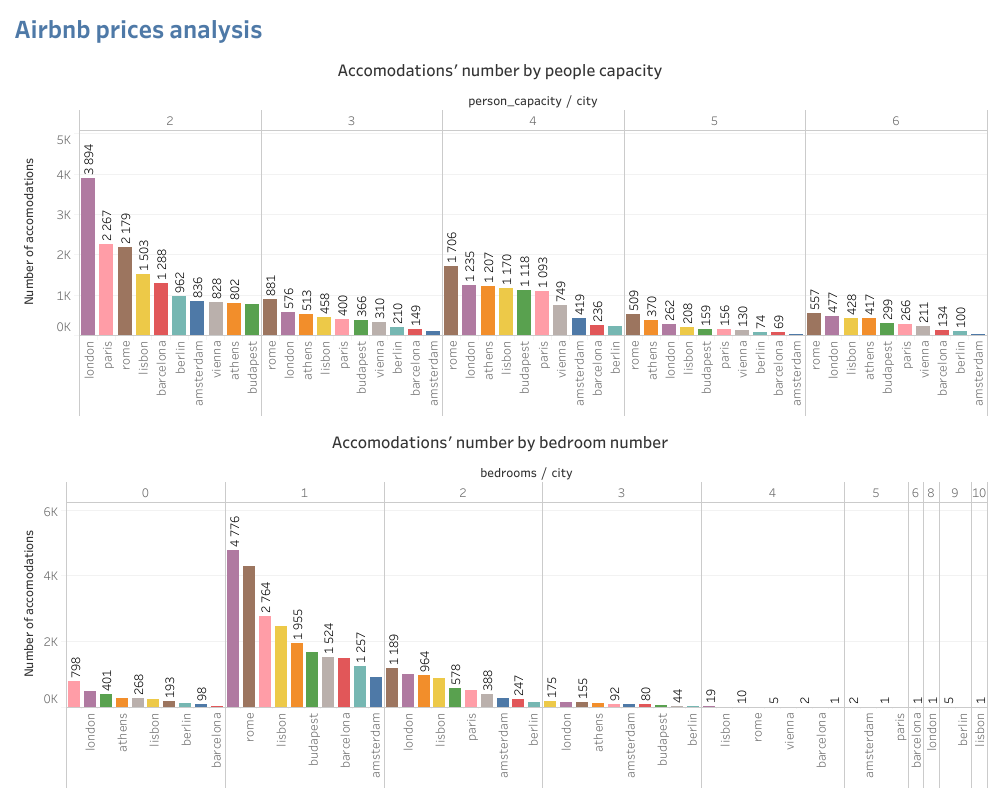

What the dashboard file says about the page in this screenshot:
{"tool":"tableau","page":{"name":"Dashboard_5","canvas":[1000,800],"ordinal":5},"visuals":[{"type":"text","box":[8,8,984,40]},{"type":"worksheet","title":"c_people","mark":"Automatic","rows":["person_capacity"],"cols":["person_capacity","city"],"box":[8,48,984,372]},{"type":"worksheet","title":"c_bedrooms","mark":"Automatic","rows":["bedrooms"],"cols":["bedrooms","city"],"box":[8,420,984,372]}]}

Visuals, with their boxes in screenshot pixels (x1, y1, x2, y2), scaled from the page's 1000x800 canvas onto the 999x799 screenshot:
text: l=8, t=8, r=991, b=48
"c_people" worksheet: l=8, t=48, r=991, b=419
"c_bedrooms" worksheet: l=8, t=419, r=991, b=791
